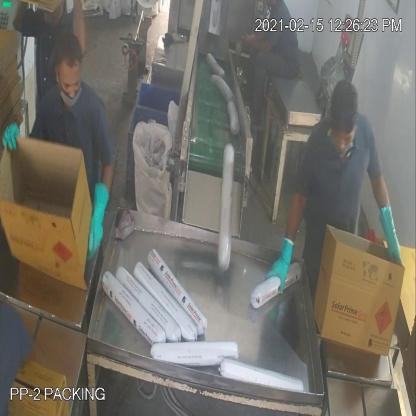glove: (262, 224, 298, 316), (83, 174, 108, 264), (378, 194, 402, 271)
no_glove: (239, 29, 276, 63)
